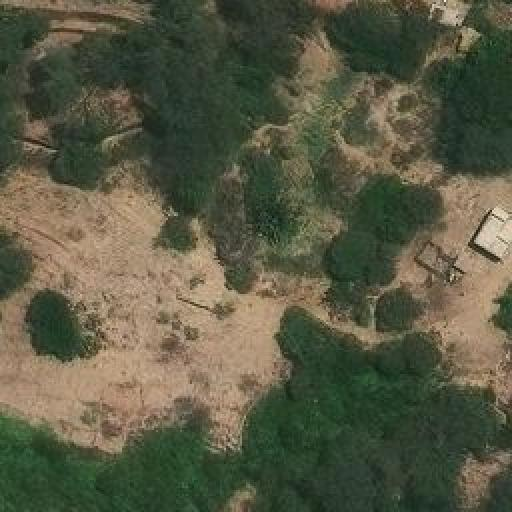manzanas: (468, 195, 510, 260)
